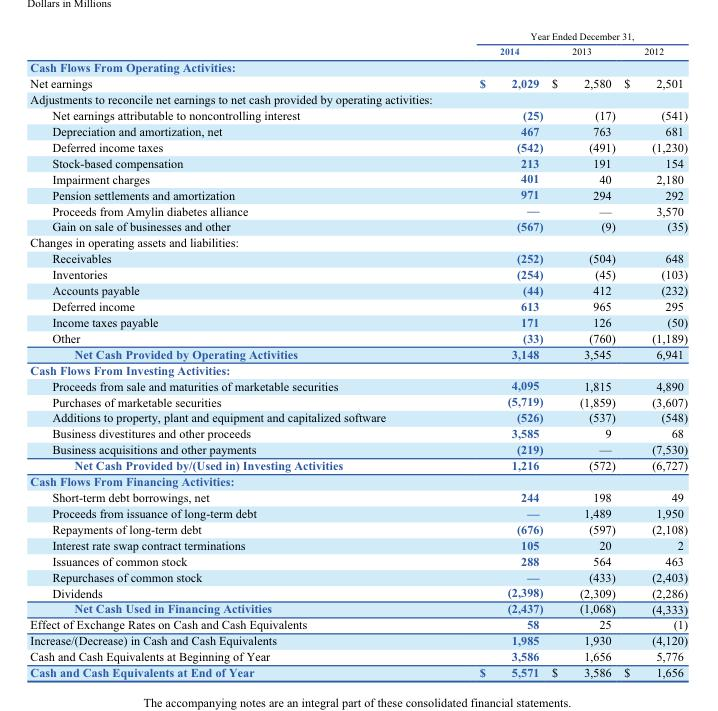table: (29, 28, 687, 679)
table column: (29, 28, 431, 679), (431, 28, 546, 679), (546, 28, 619, 679), (619, 28, 687, 679)
table column header: (29, 28, 687, 57)
table projected row header: (29, 57, 687, 74), (29, 90, 687, 106), (29, 361, 687, 377), (29, 472, 687, 488), (29, 234, 687, 249)
table row: (29, 57, 687, 74), (29, 217, 687, 234), (29, 74, 687, 90), (29, 90, 687, 106), (29, 106, 687, 122), (29, 122, 687, 138), (29, 138, 687, 154), (29, 154, 687, 170), (29, 170, 687, 186), (29, 186, 687, 202), (29, 249, 687, 265), (29, 265, 687, 281), (29, 281, 687, 297), (29, 297, 687, 313), (29, 313, 687, 329), (29, 329, 687, 345), (29, 345, 687, 361), (29, 361, 687, 377), (29, 377, 687, 393), (29, 408, 687, 424), (29, 424, 687, 440), (29, 440, 687, 456), (29, 456, 687, 472), (29, 472, 687, 488), (29, 488, 687, 504), (29, 504, 687, 520), (29, 520, 687, 536), (29, 536, 687, 552), (29, 552, 687, 568), (29, 568, 687, 584), (29, 584, 687, 600), (29, 600, 687, 616), (29, 631, 687, 647), (29, 647, 687, 663), (29, 663, 687, 679), (29, 42, 687, 57), (29, 202, 687, 217), (29, 234, 687, 249), (29, 393, 687, 408), (29, 616, 687, 631), (29, 28, 687, 42)
table spanning cell: (431, 28, 687, 42)
